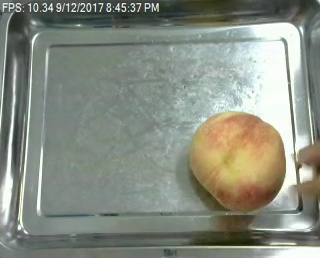Peach: (189, 109, 287, 211)
